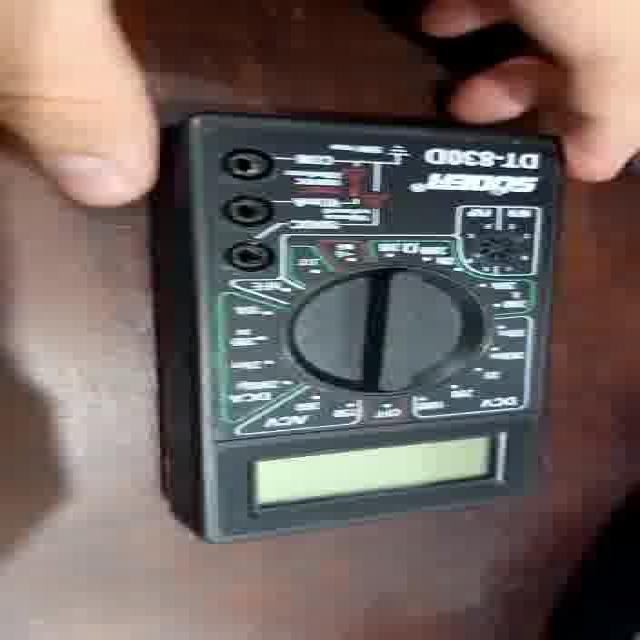multimeter: (171, 121, 532, 554)
